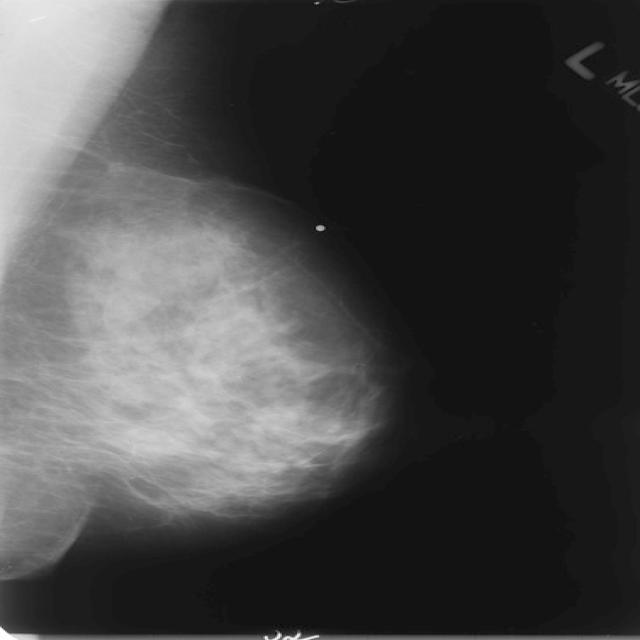tumour: (99, 285, 156, 322)
